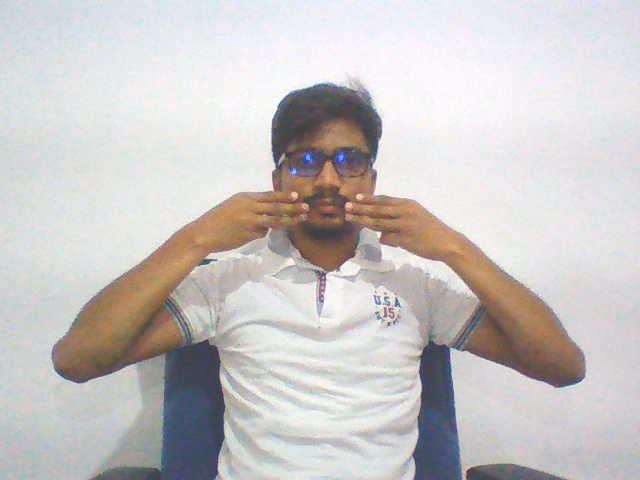cat: (183, 182, 469, 267)
